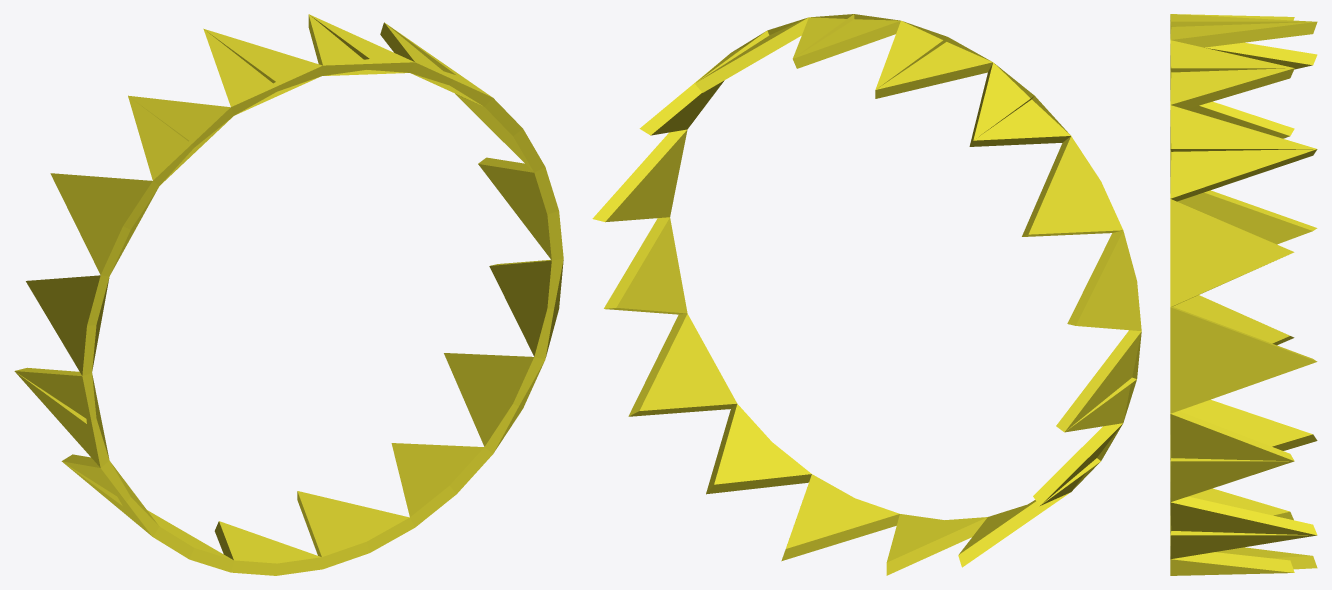
The model's file is CrownHat.fbx.
The picture shows the model from 3 angles, left to right: view 1: azimuth 30°, elevation 25°; view 2: azimuth 150°, elevation 25°; view 3: azimuth 270°, elevation 25°; orthographic projection.
Parts seen in each view (by area): view 1: Circle; view 2: Circle; view 3: Circle.
Boxes of the visible parts, x1,y1,x2,y2 form: Circle: (14, 14, 563, 575); Circle: (592, 14, 1141, 575); Circle: (1170, 14, 1317, 575).
Size of the model in its own units: 67.53 by 67.53 by 17.67.
